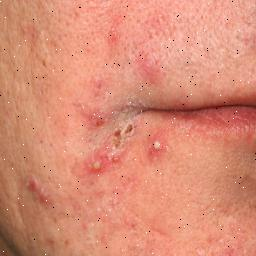ance: (23, 166, 55, 212), (85, 98, 107, 134), (109, 122, 137, 150), (88, 72, 106, 100), (148, 135, 166, 155), (107, 148, 125, 168), (86, 155, 102, 175), (106, 24, 122, 44), (44, 232, 56, 252)
